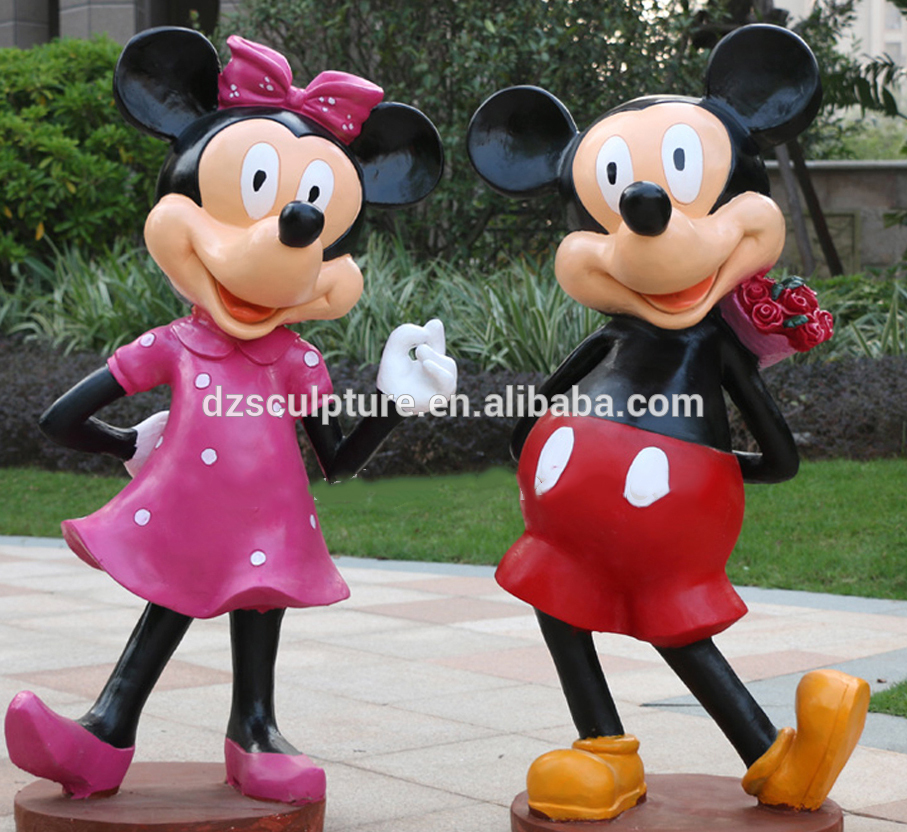Mickey: (462, 21, 823, 337)
